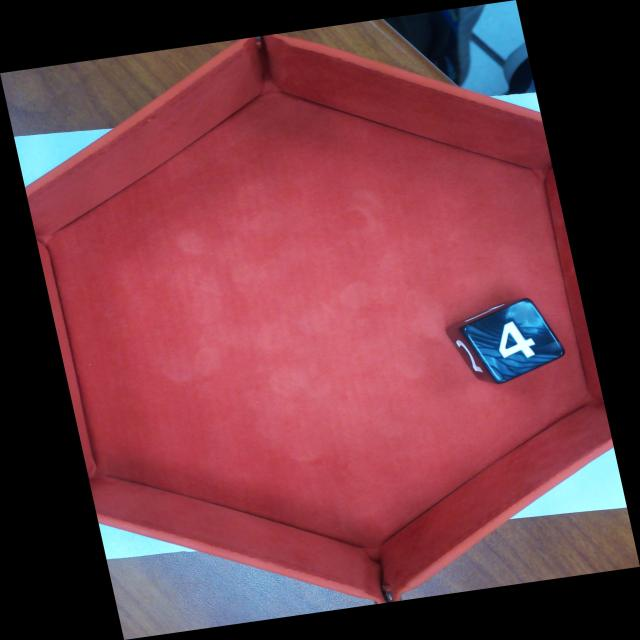dice: (462, 297, 569, 385)
